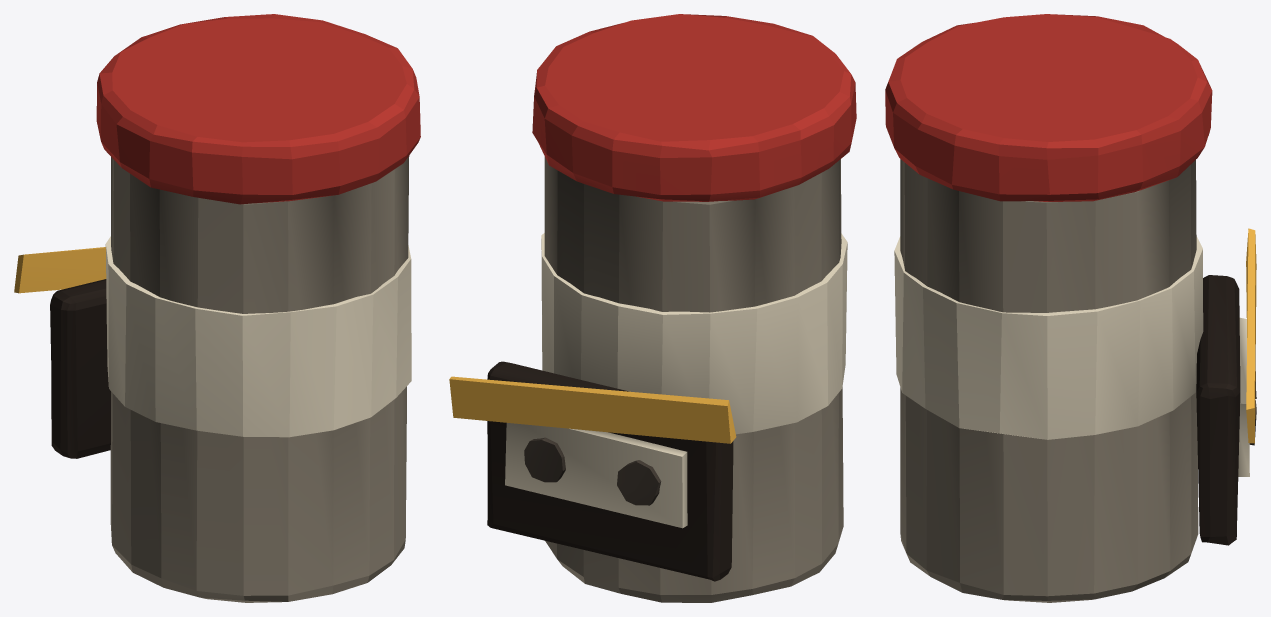
File: find_cassette.glb
3 views of the same model, side by side, from view 1: azimuth 30°, elevation 25°; view 2: azimuth 150°, elevation 25°; view 3: azimuth 270°, elevation 25° (orthographic).
Visible parts, largest first — view 1: Cassette; view 2: Cassette; view 3: Cassette.
Boxes of the visible parts, box(x1,y1,x2,y2) form: Cassette: box(14, 14, 420, 602); Cassette: box(449, 14, 856, 602); Cassette: box(885, 14, 1256, 602).
Size of the model in its own units: 0.2429 by 0.3827 by 0.2738.
